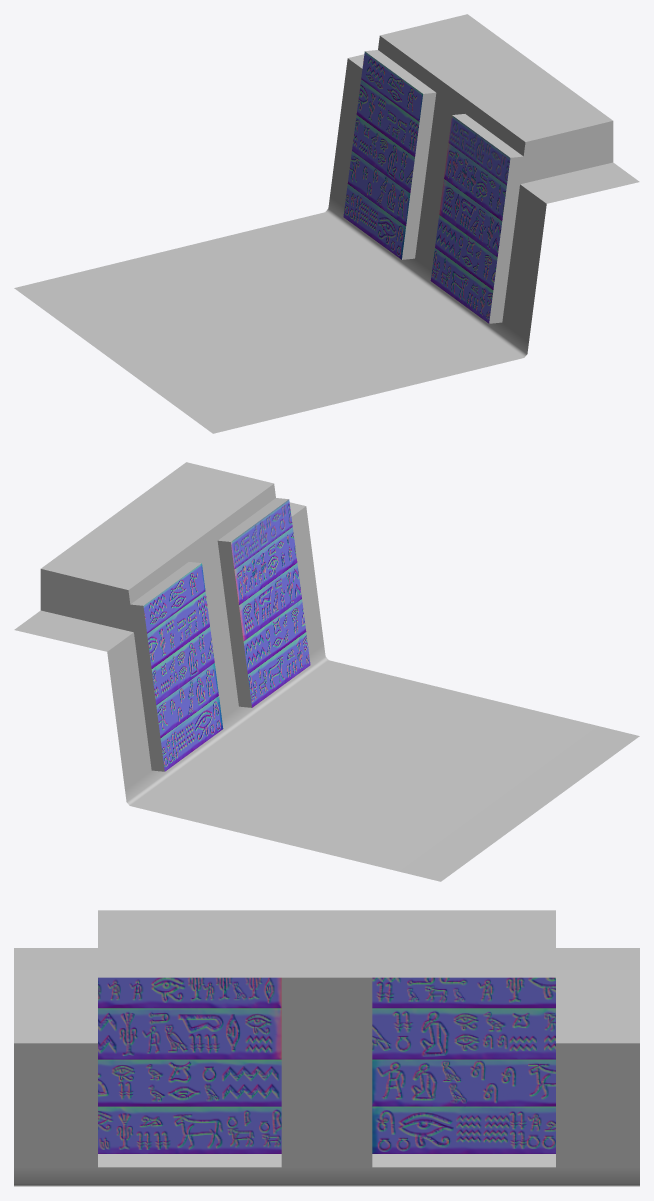
File: CeilingSidePart.fbx
3 views of the same model, one above another, from view 1: azimuth 30°, elevation 25°; view 2: azimuth 150°, elevation 25°; view 3: azimuth 270°, elevation 25° (orthographic). The views are drawn at different scales.
Visible parts, largest first — view 1: CeilingSidePart; view 2: CeilingSidePart; view 3: CeilingSidePart.
Boxes of the visible parts, box(x1,y1,x2,y2) form: CeilingSidePart: box(14, 14, 639, 433); CeilingSidePart: box(14, 462, 639, 881); CeilingSidePart: box(14, 910, 639, 1186).
Size of the model in its own units: 19.18 by 8.13 by 15.49.
